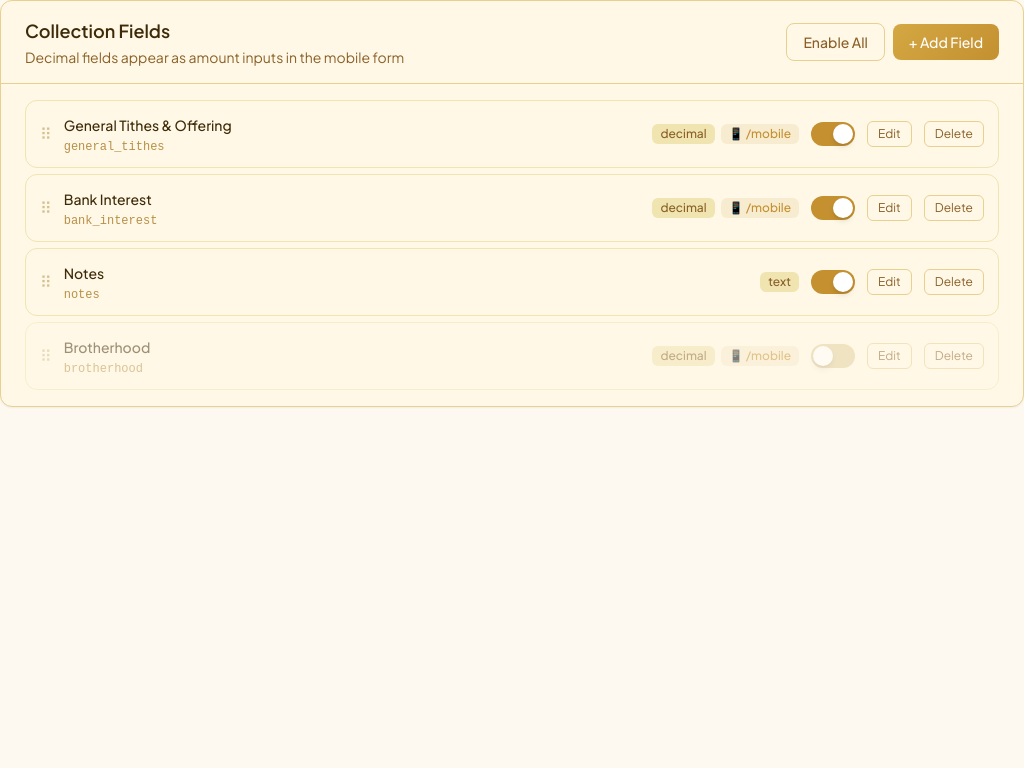
Test case: + Add Field button opens a modal dialog
The width and height of the screenshot is (1024, 768).
Check: the text "General Tithes & Offering" is shown, box [64,116,232,134]
Click the button "+ Add Field".
click(946, 42)  # box [893,24,999,60]
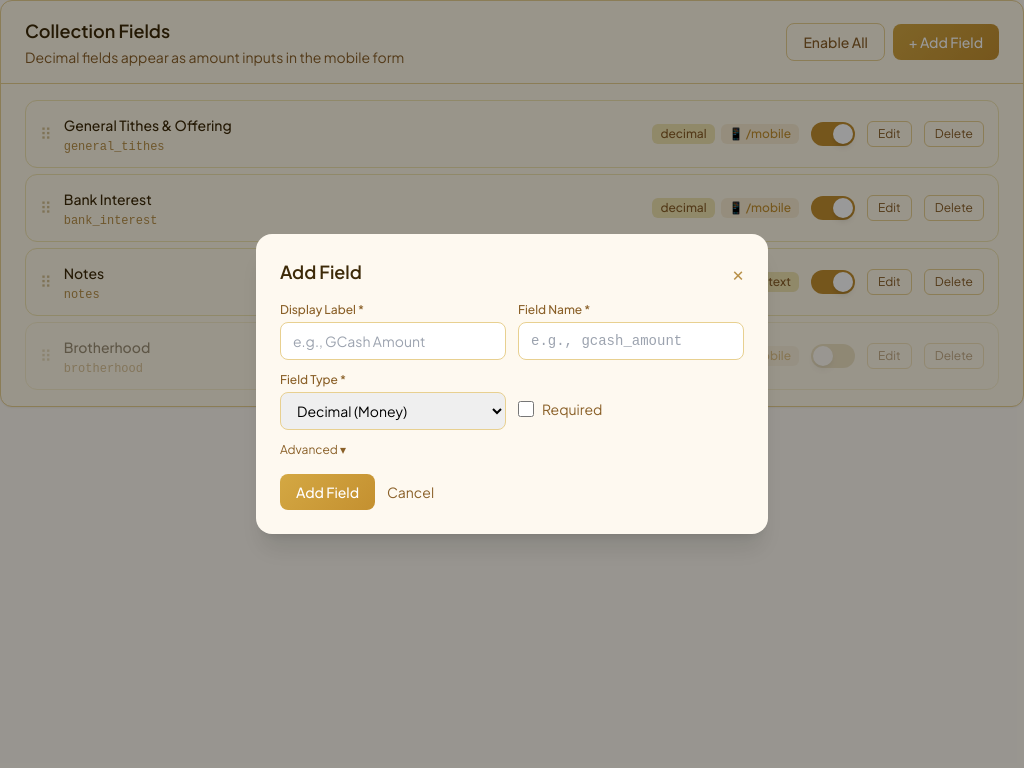
Check: the heading "Add Field" is shown, box [280,258,362,286]
Check: the form "Add Field" is shown, box [280,302,744,510]
Check: the dialog "Add Field" is shown, box [256,234,768,534]
